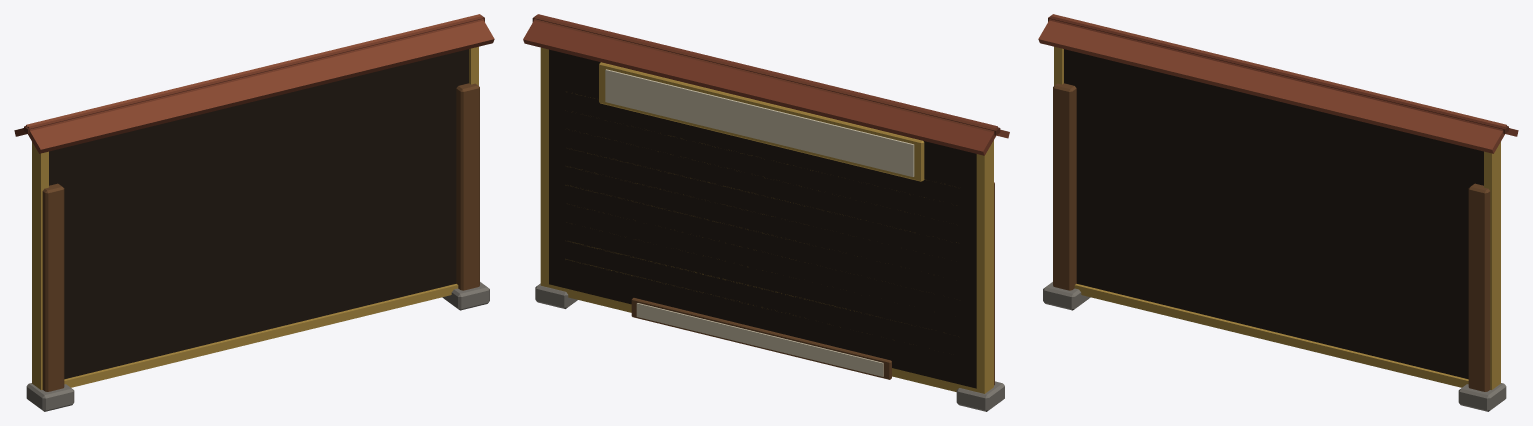
The model's file is TownBoard.glb.
The picture shows the model from 3 angles, left to right: view 1: azimuth 30°, elevation 25°; view 2: azimuth 150°, elevation 25°; view 3: azimuth 330°, elevation 25°; orthographic projection.
Visible parts, largest first — view 1: Board, Body; view 2: Board, Body, Header, Footer; view 3: Board, Body.
Boxes of the visible parts, left/top/right/bottom form: Board: left=49, top=49, right=468, bottom=379; Body: left=14, top=14, right=494, bottom=411; Board: left=549, top=49, right=976, bottom=388; Body: left=523, top=14, right=1009, bottom=411; Header: left=605, top=69, right=914, bottom=176; Footer: left=636, top=303, right=883, bottom=376; Board: left=1064, top=49, right=1483, bottom=379; Body: left=1038, top=14, right=1518, bottom=411.
Size of what is drawn, in the model's own units: 14.3 by 8.34 by 1.44.
